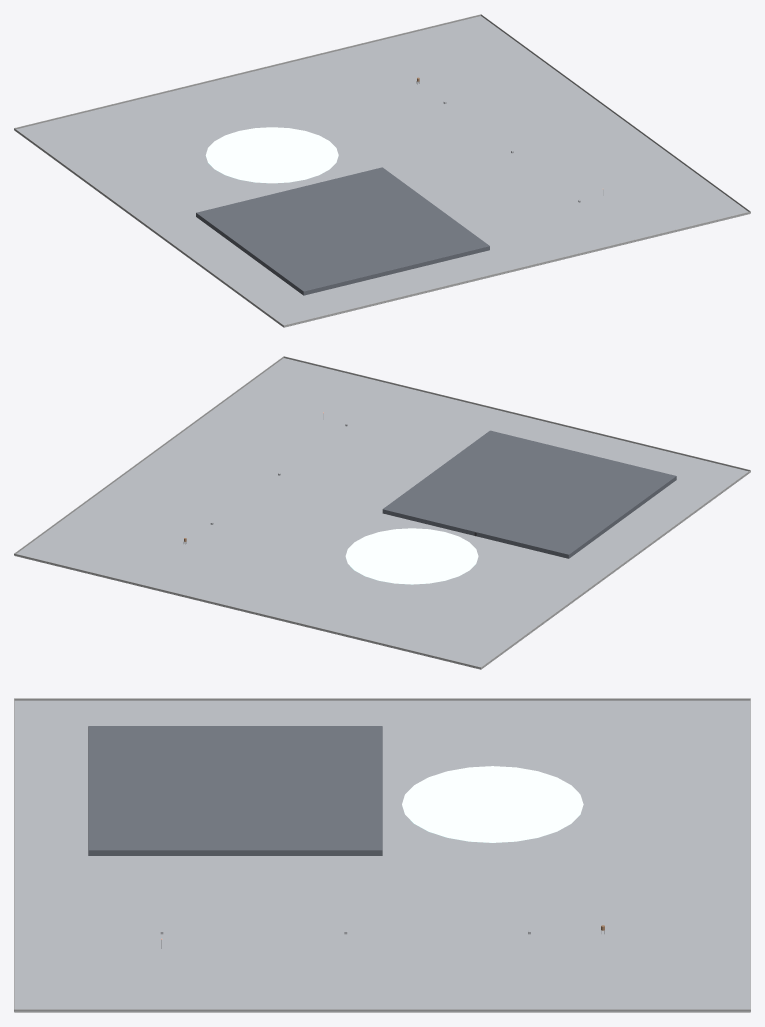
The model's file is roof_100x100_heli_office.glb.
3 renders of one model, top to bottom at view 1: azimuth 30°, elevation 25°; view 2: azimuth 150°, elevation 25°; view 3: azimuth 270°, elevation 25°, orthographic. The views are drawn at different scales.
Parts seen in each view (by area): view 1: int_slab_edge, ext_penthouse, ext_helipad_ring, ext_parapet, int_slab; view 2: int_slab_edge, ext_penthouse, ext_helipad_ring, ext_parapet, int_slab; view 3: int_slab_edge, ext_penthouse, ext_helipad_ring, ext_parapet, int_slab.
Boxes of the visible parts, left/top/right/bottom form: int_slab_edge: left=16, top=16, right=750, bottom=327; ext_penthouse: left=196, top=167, right=489, bottom=295; ext_helipad_ring: left=205, top=127, right=338, bottom=183; ext_parapet: left=14, top=14, right=750, bottom=326; int_slab: left=14, top=130, right=750, bottom=327; int_slab_edge: left=14, top=358, right=748, bottom=669; ext_penthouse: left=382, top=430, right=676, bottom=558; ext_helipad_ring: left=345, top=528, right=478, bottom=584; ext_parapet: left=14, top=356, right=750, bottom=668; int_slab: left=14, top=472, right=750, bottom=669; int_slab_edge: left=14, top=700, right=750, bottom=1011; ext_penthouse: left=88, top=726, right=382, bottom=855; ext_helipad_ring: left=402, top=766, right=583, bottom=842; ext_parapet: left=14, top=698, right=750, bottom=1011; int_slab: left=14, top=1012, right=750, bottom=1012.
Size of the model in its own units: 100 by 1.73 by 100.
